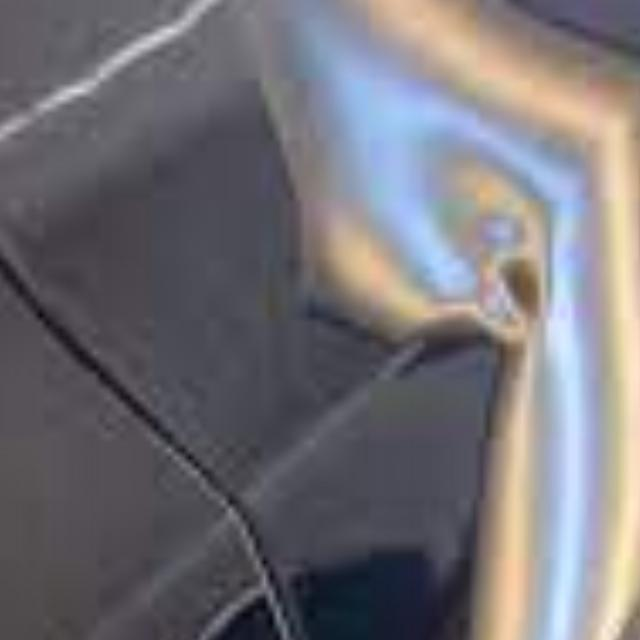dents: (463, 197, 583, 382)
